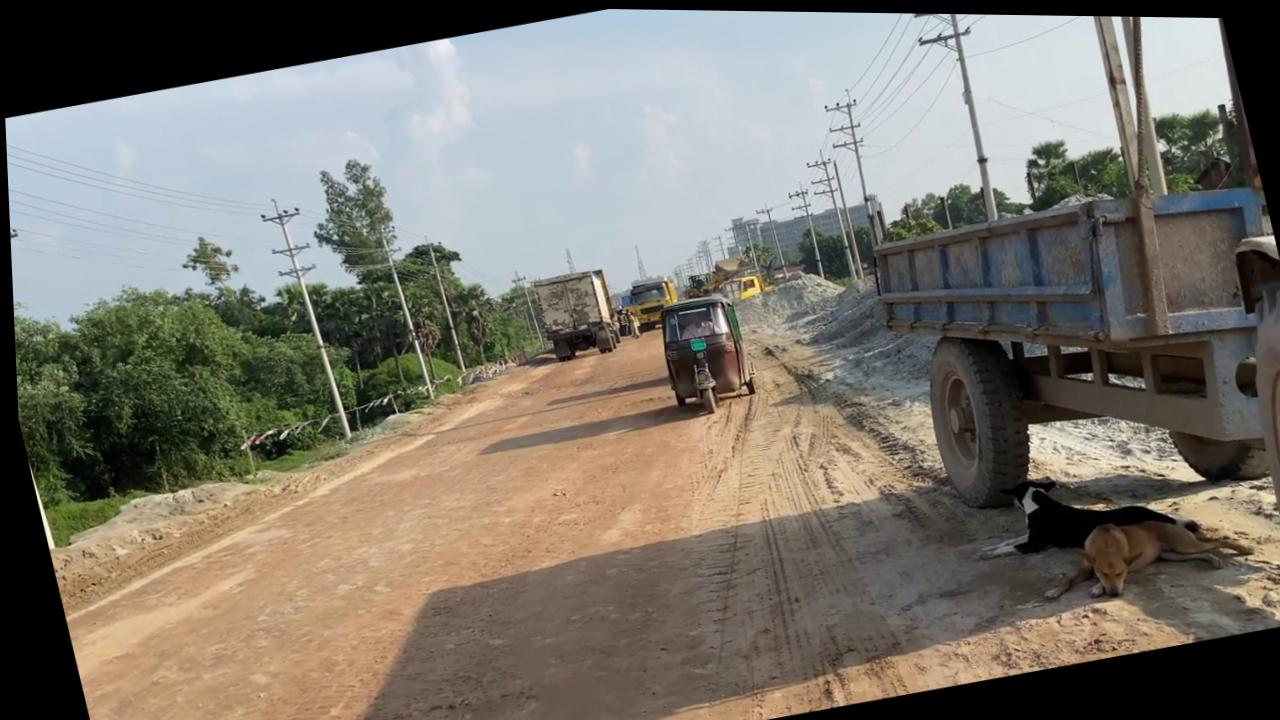Dog: (956, 436, 1254, 619)
Muddy road: (9, 193, 1280, 720)
Pole: (253, 191, 352, 445), (374, 222, 431, 400), (422, 237, 463, 372)
Tree: (805, 9, 1280, 681), (646, 286, 757, 416), (525, 263, 620, 363), (676, 257, 767, 309), (616, 272, 681, 335), (713, 267, 766, 302), (677, 268, 709, 297)
